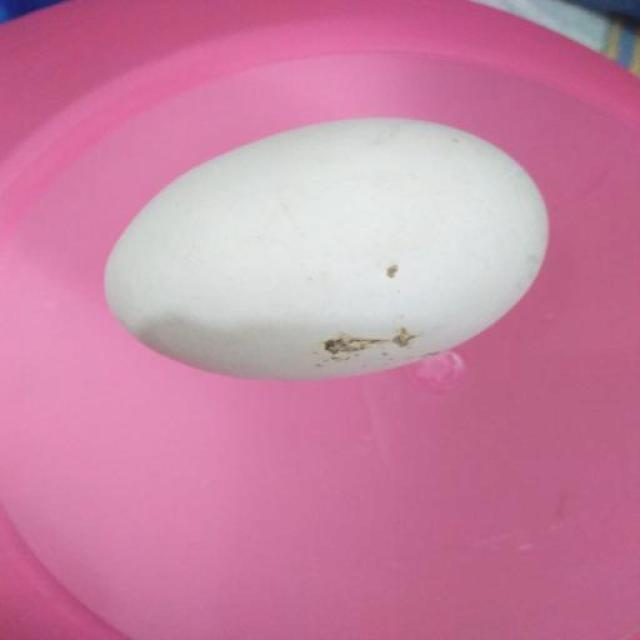telur: (103, 117, 545, 380)
